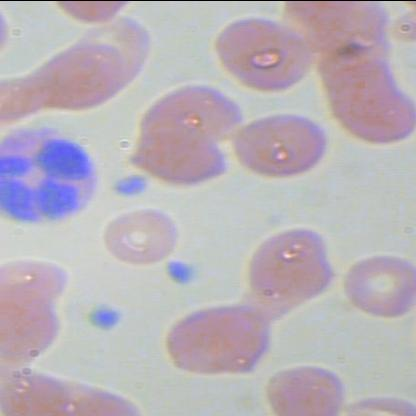Platelets: (87, 298, 126, 334), (108, 172, 150, 202), (159, 256, 198, 286)
RBC: (208, 10, 320, 94), (162, 302, 274, 380), (26, 36, 134, 114), (128, 122, 232, 191), (230, 107, 330, 178), (248, 223, 340, 299), (97, 200, 181, 271), (338, 248, 415, 320), (262, 356, 355, 415), (1, 290, 69, 362)
WBC: (1, 120, 101, 229)
